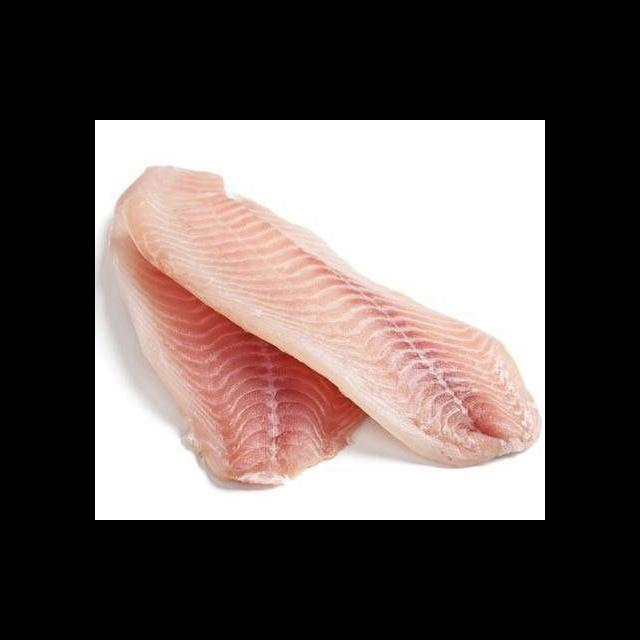fish: (118, 161, 545, 471)
